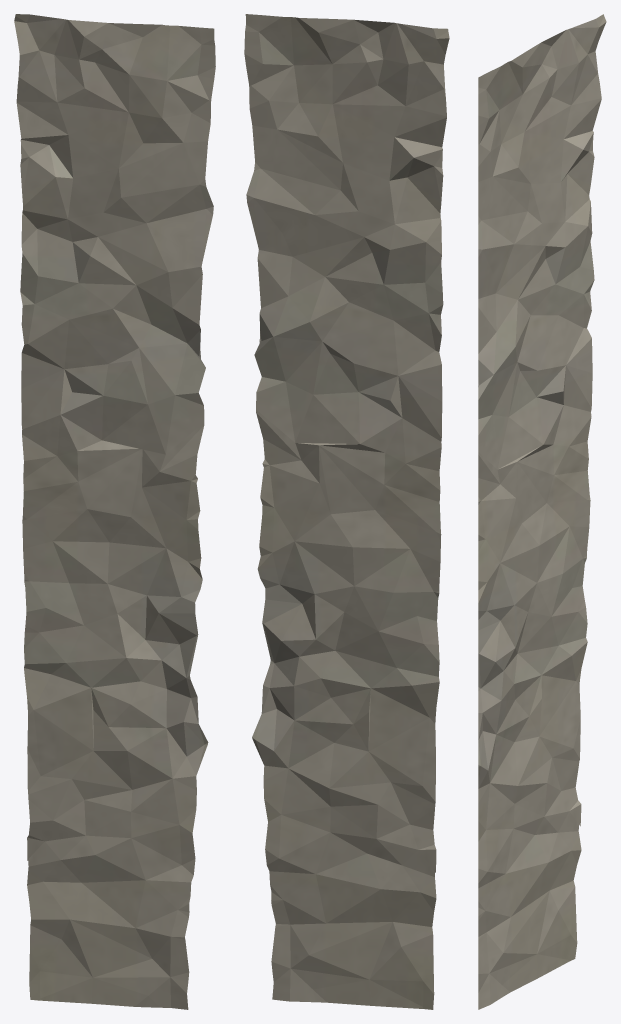
3 renders of one model, left to right at view 1: azimuth 30°, elevation 25°; view 2: azimuth 210°, elevation 25°; view 3: azimuth 270°, elevation 25°, orthographic. The views are drawn at different scales.
Bounding box in the file's own units: 0.1218 × 0.8374 × 0.103.
1 material, 1 textured.
